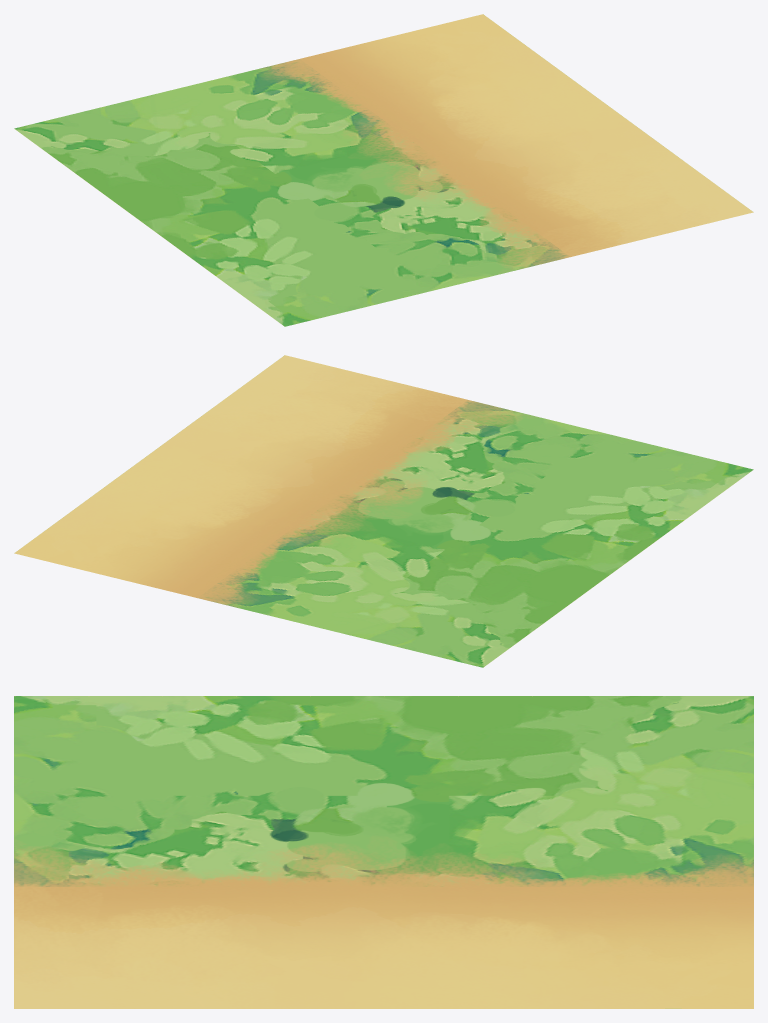
File: env_tiles_mesh_07.fbx
The picture shows the model from 3 angles, top to bottom: view 1: azimuth 30°, elevation 25°; view 2: azimuth 150°, elevation 25°; view 3: azimuth 270°, elevation 25°; orthographic projection. The views are drawn at different scales.
Visible parts, largest first — view 1: T7; view 2: T7; view 3: T7.
Boxes of the visible parts, x1,y1,x2,y2 form: T7: (14,14,753,326); T7: (14,355,753,667); T7: (14,696,753,1008).
Bounding box in the file's own units: 1000 × 0 × 1000.
